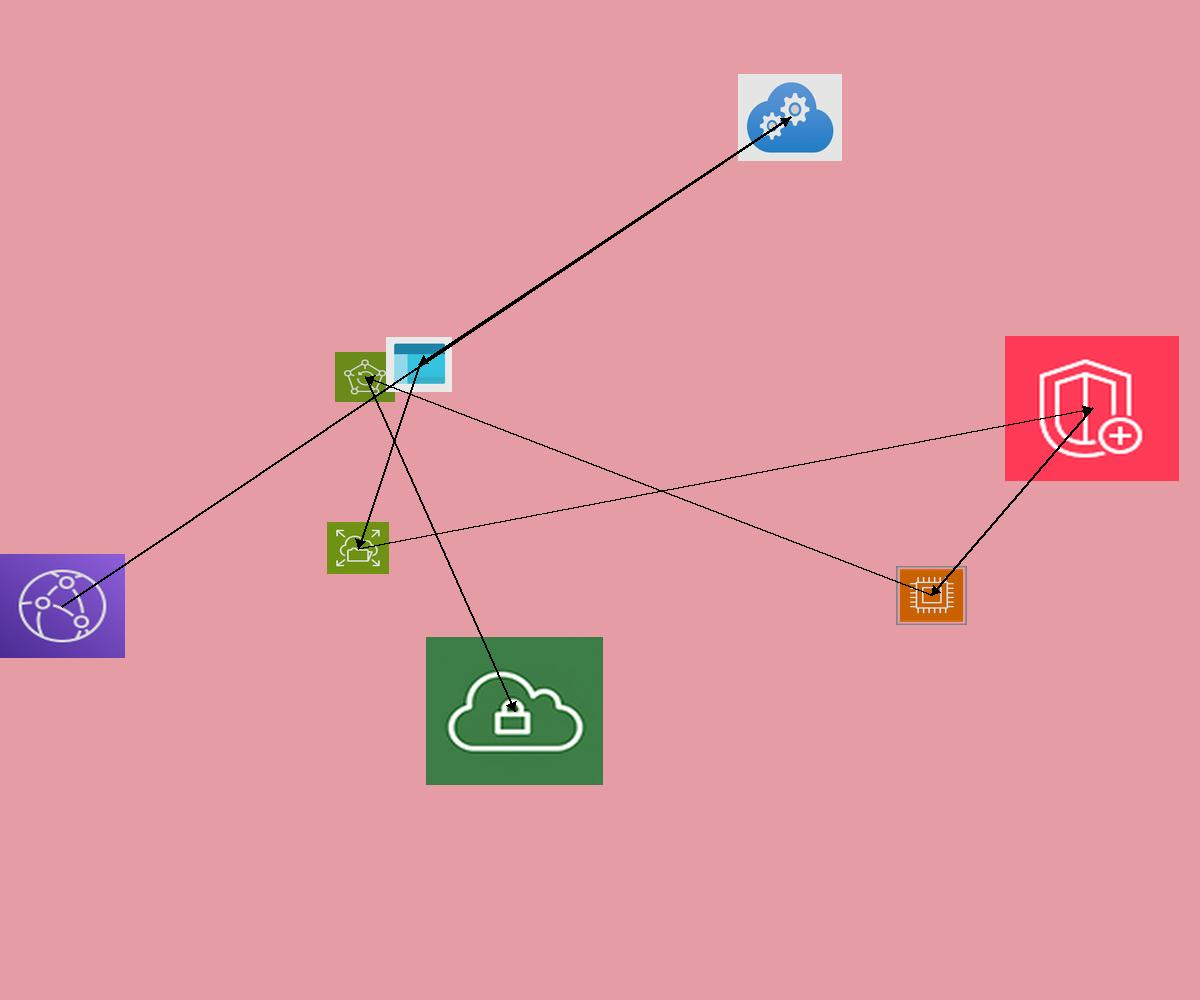AWS-Backup: (335, 352, 395, 402)
AWS-Category_Compute: (896, 566, 967, 625)
AWS-CloudFront: (0, 554, 125, 658)
AWS-EFS: (327, 522, 389, 574)
AWS-Private_vpc: (426, 637, 603, 785)
AWS-Shield: (1005, 336, 1179, 481)
Azure_cloud_services: (738, 74, 842, 161)
Azure_management-portal: (386, 337, 452, 392)
